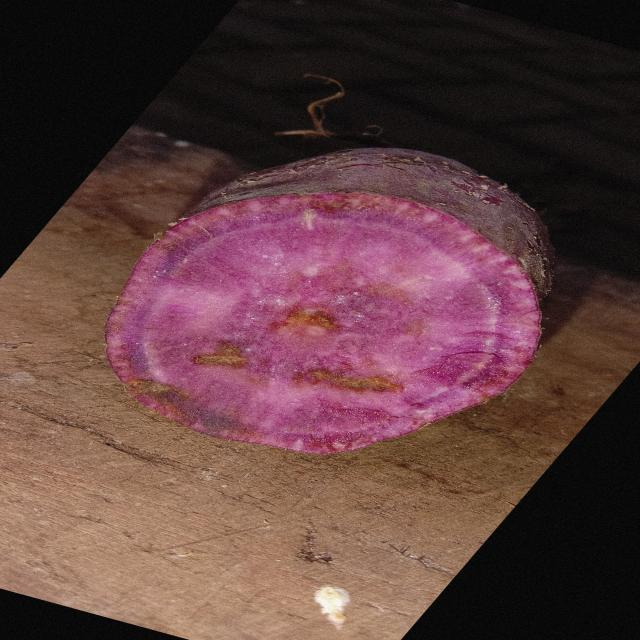Sick Sweet Potato_Tuber Rot: (107, 194, 540, 454)
